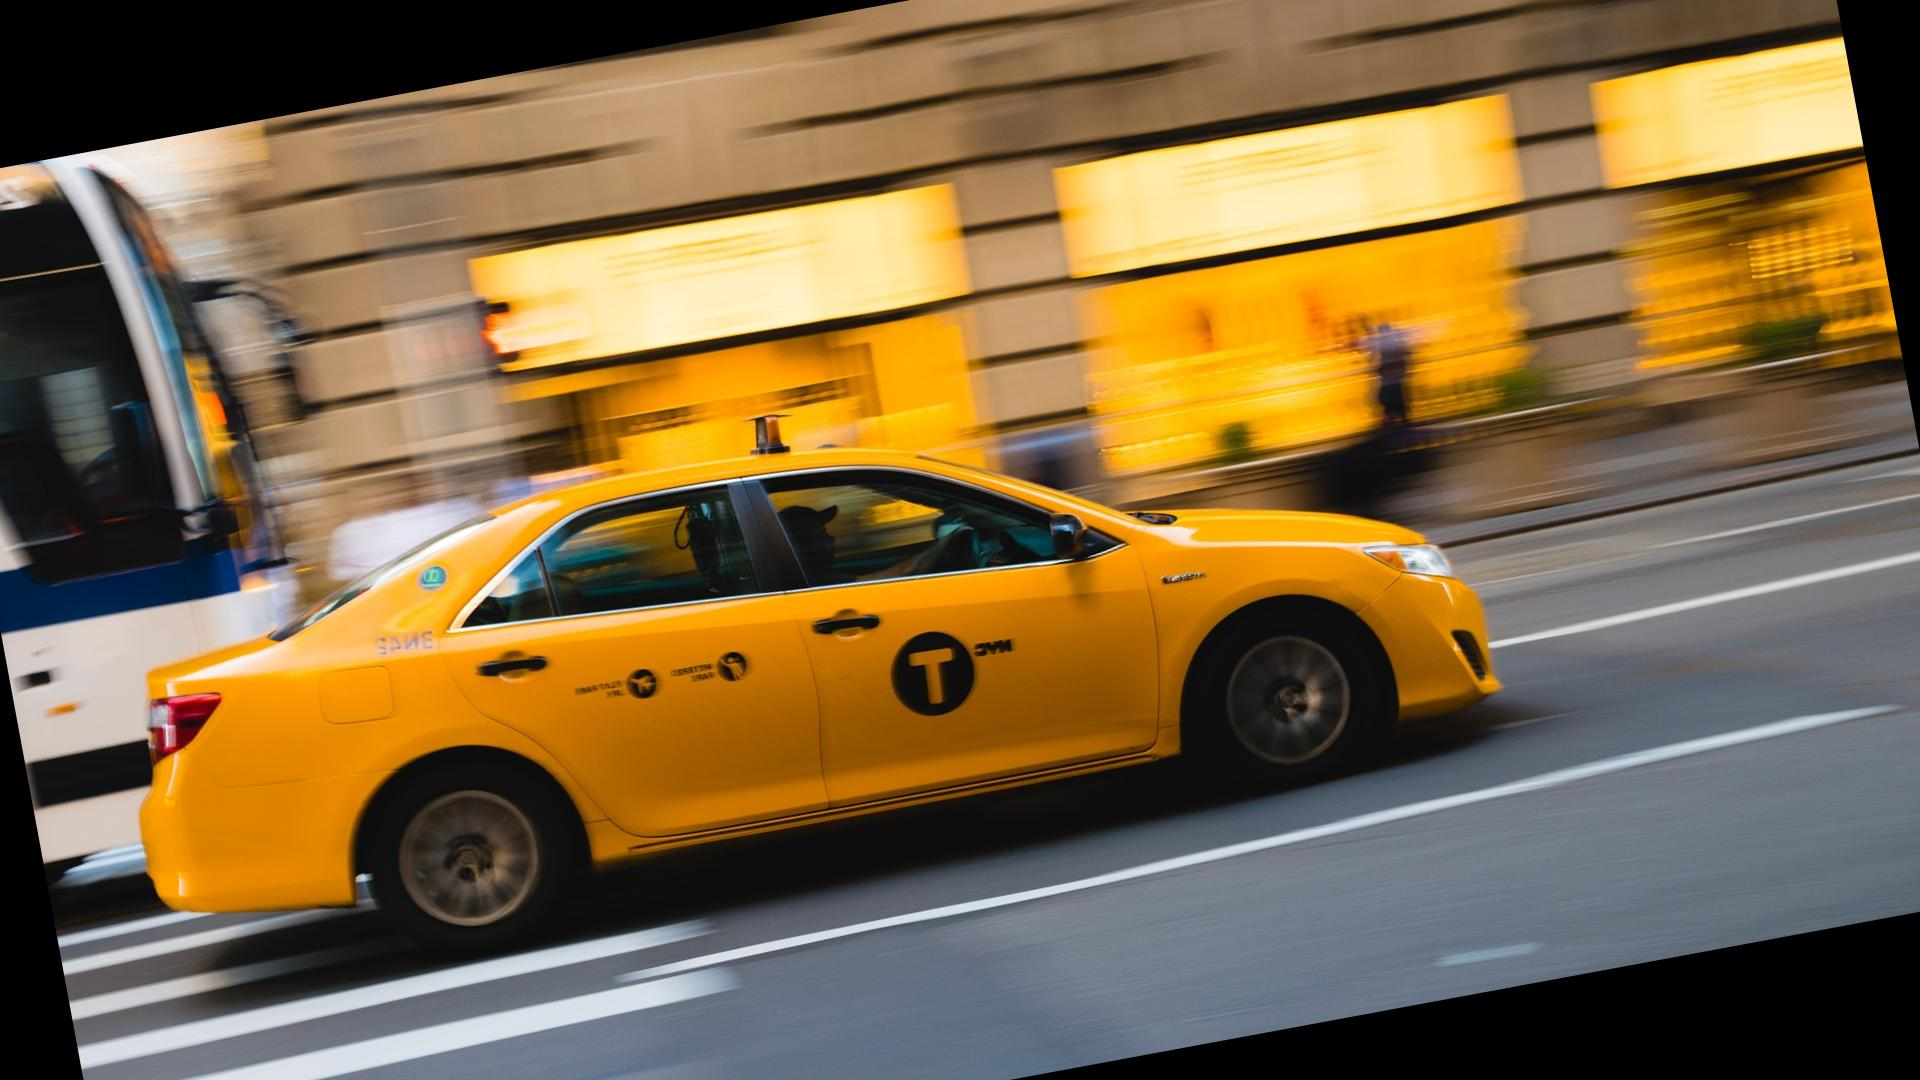taxi: (167, 414, 1480, 992)
